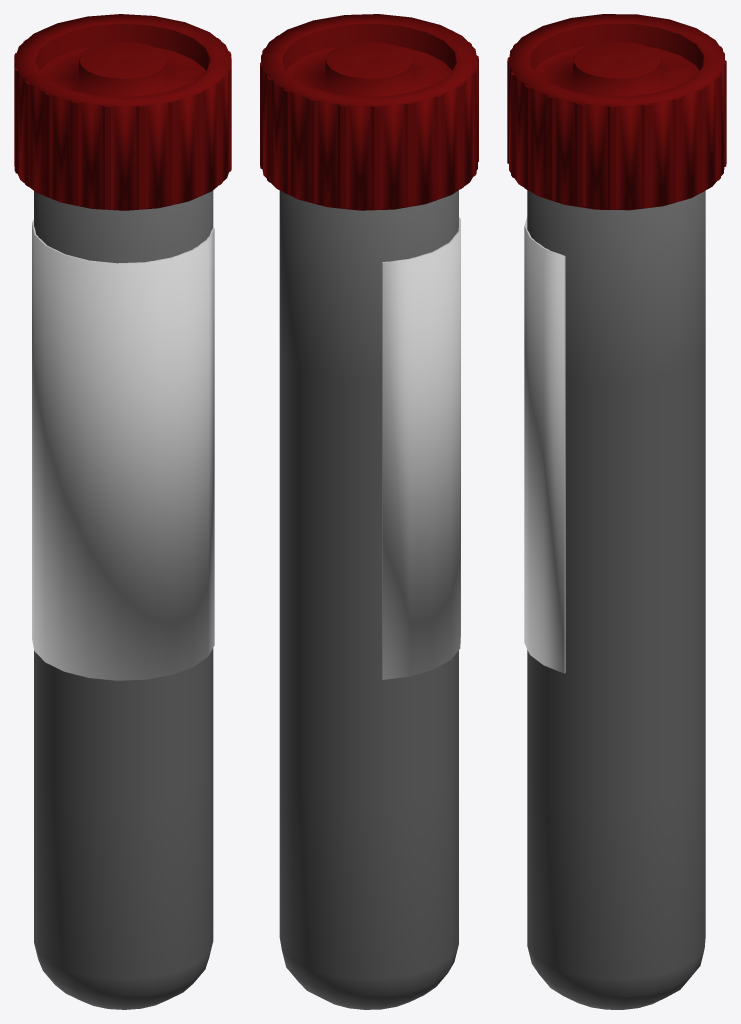
3 renders of one model, left to right at view 1: azimuth 30°, elevation 25°; view 2: azimuth 150°, elevation 25°; view 3: azimuth 270°, elevation 25°, orthographic.
Visible parts, largest first — view 1: group23_pCylinder66.001_Mesh.001; view 2: group23_pCylinder66.001_Mesh.001; view 3: group23_pCylinder66.001_Mesh.001.
Part boxes in pixels (x1,y1,x2,y2): group23_pCylinder66.001_Mesh.001: (14, 14, 231, 1009); group23_pCylinder66.001_Mesh.001: (260, 14, 478, 1009); group23_pCylinder66.001_Mesh.001: (507, 14, 726, 1009).
Bounding box in the file's own units: 0.0281 × 0.133 × 0.0281.
